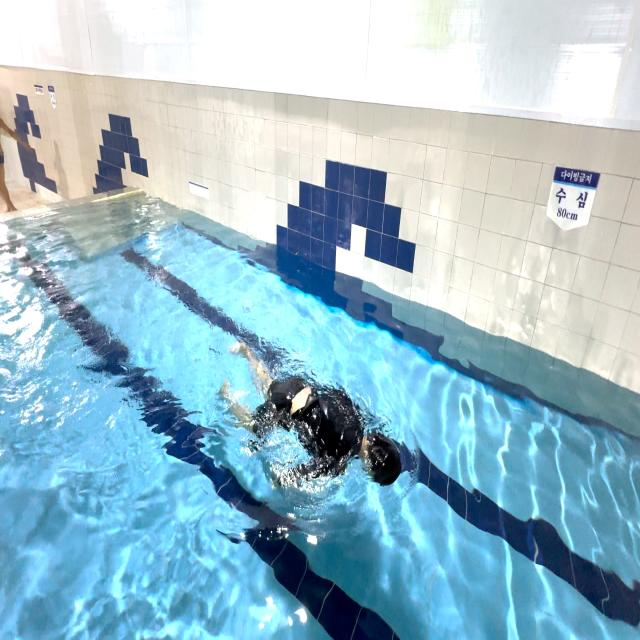Drowning: (217, 325, 410, 523)
